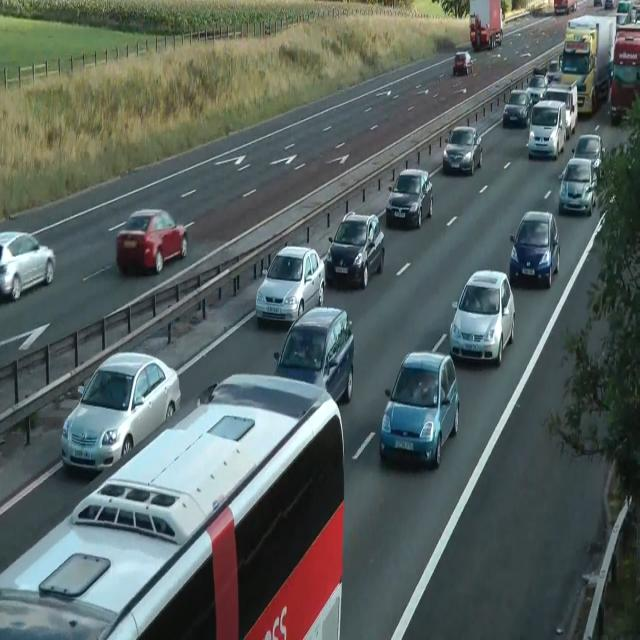bus: (60, 351, 181, 474), (379, 351, 459, 468), (272, 305, 354, 405), (449, 268, 515, 366), (255, 245, 325, 326), (116, 208, 188, 276), (324, 210, 384, 289), (0, 230, 56, 302), (509, 210, 559, 288), (385, 167, 433, 229), (558, 156, 598, 216), (442, 125, 482, 175), (572, 133, 606, 179), (503, 89, 533, 127), (564, 14, 598, 42), (526, 73, 548, 105), (452, 50, 472, 76), (545, 59, 561, 85), (554, 0, 576, 14), (594, 0, 614, 9), (495, 28, 503, 46), (604, 0, 614, 9)
car: (0, 371, 345, 638)
jeep: (527, 99, 567, 159)
minibus: (544, 14, 616, 116), (610, 30, 640, 124), (469, 0, 503, 51), (616, 0, 640, 33)
